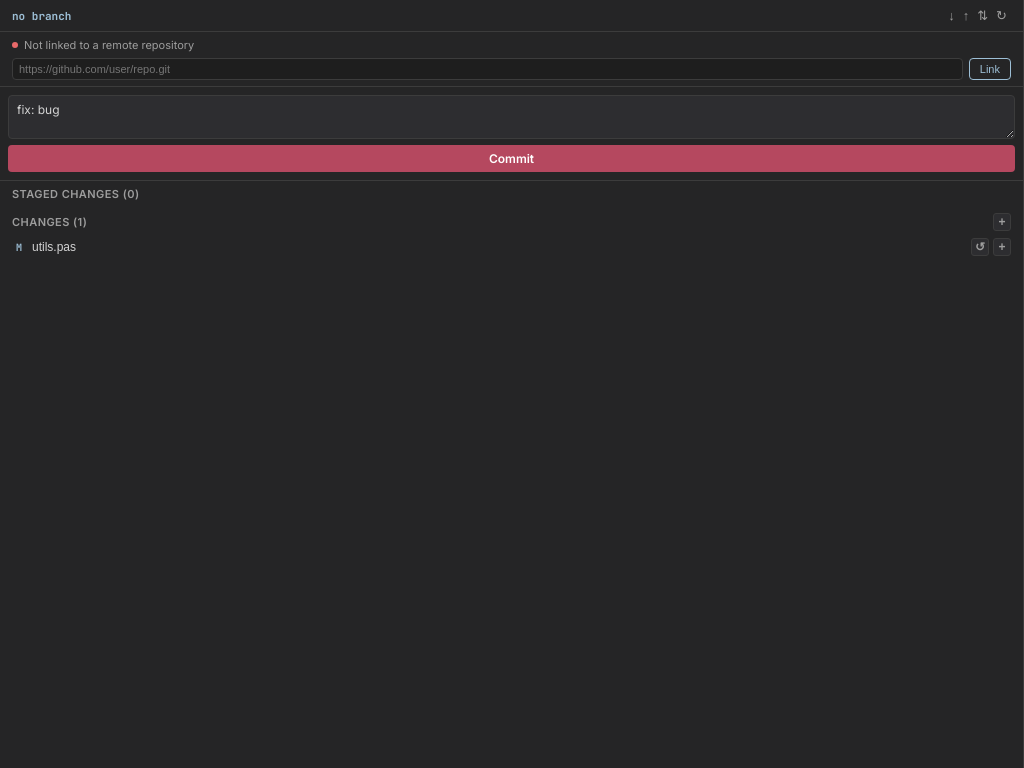
Test case: GitPanel › auto-stage prompt on commit › choosing "Cancel" in the prompt does nothing
Click the button "Commit" at (512, 158), box [8,145,1015,172]
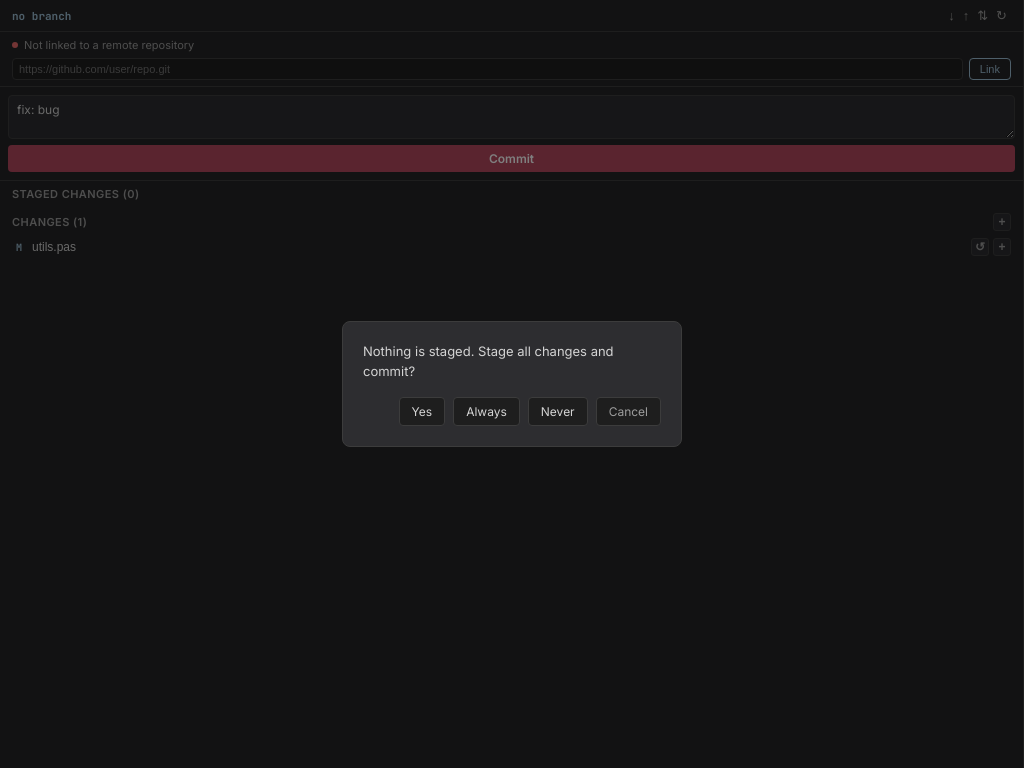
Click the button "Cancel" at (628, 412), box [596,397,661,426]
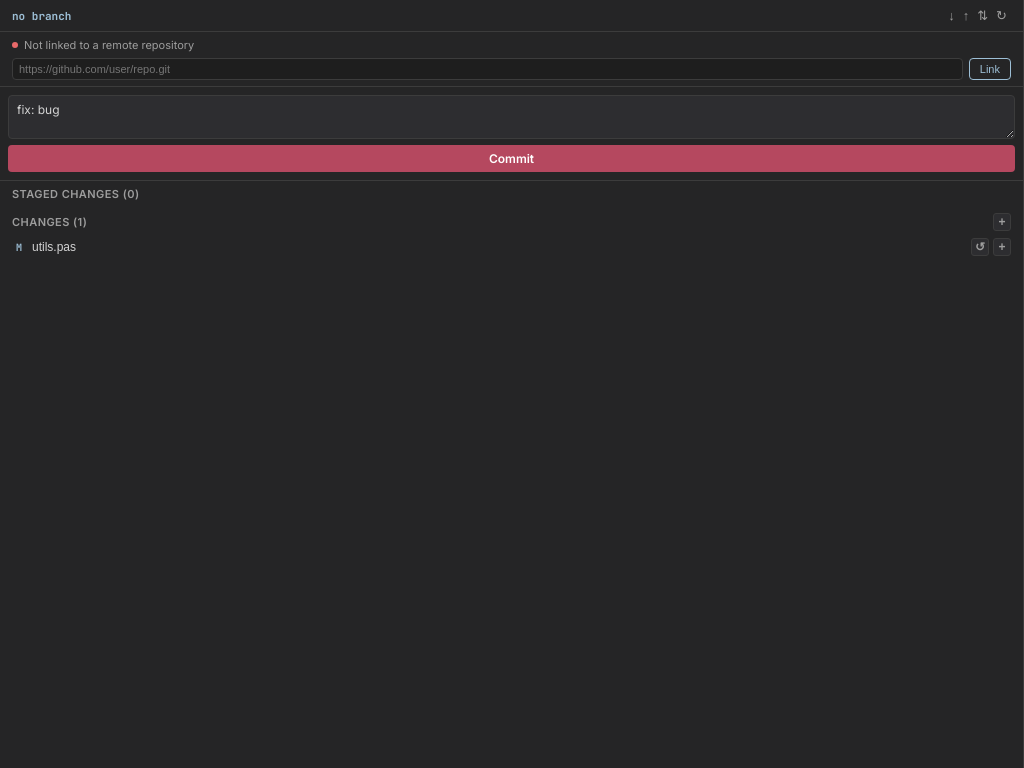
Result: the text "Nothing is staged. Stage all changes and commit?" is gone
